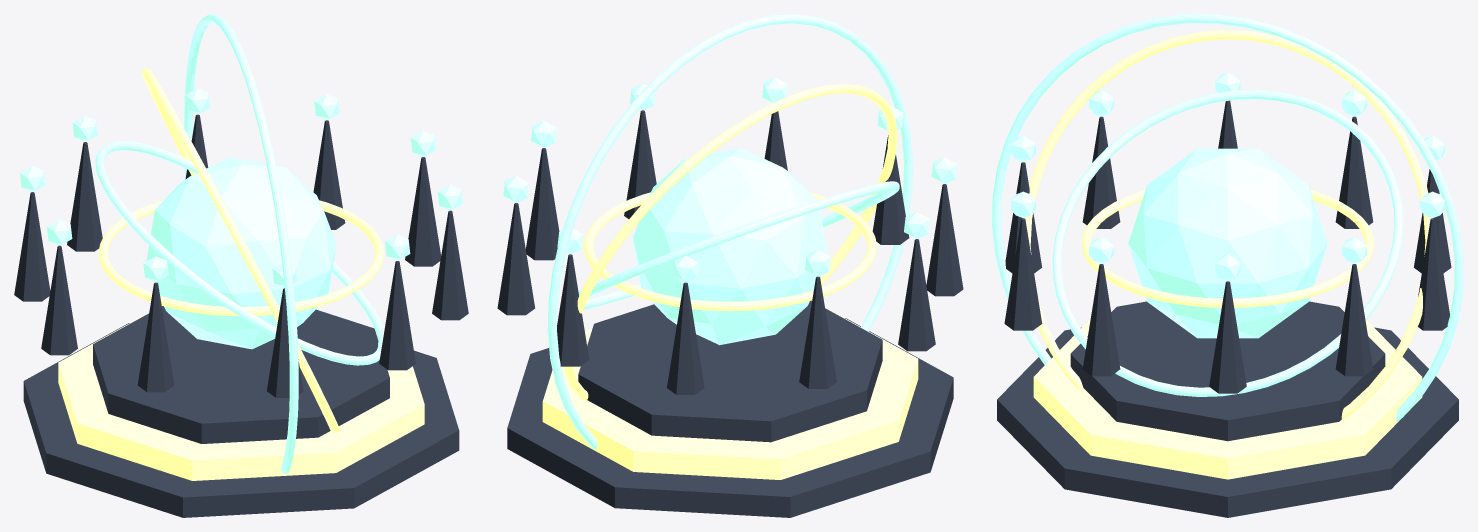
File: gpu-blender-v5.glb
3 views of the same model, side by side, from view 1: azimuth 30°, elevation 25°; view 2: azimuth 150°, elevation 25°; view 3: azimuth 270°, elevation 25° (orthographic). The views are drawn at different scales.
Parts seen in each view (by area): view 1: Cylinder.002, SovereignCore_producthunt-connector, Cylinder, Cylinder.001, Torus.003, Torus.001, Torus, Torus.002, Cone.006, Cone.009, Cone.005, Cone.008 (+12 smaller); view 2: Cylinder.002, SovereignCore_producthunt-connector, Cylinder, Cylinder.001, Torus.003, Torus.002, Torus, Torus.001, Cone.005, Cone.001, Cone.006, Cone.003 (+12 smaller); view 3: SovereignCore_producthunt-connector, Cylinder.002, Cylinder, Cylinder.001, Torus.003, Torus.001, Torus.002, Torus, Cone.001, Cone.009, Cone, Cone.008 (+7 smaller).
Part boxes in pixels (bbox=[...]): Cylinder.002: bbox=[93, 306, 389, 443]; SovereignCore_producthunt-connector: bbox=[146, 157, 336, 349]; Cylinder: bbox=[23, 323, 459, 517]; Cylinder.001: bbox=[58, 314, 424, 480]; Torus.003: bbox=[184, 14, 298, 473]; Torus.001: bbox=[95, 141, 384, 365]; Torus: bbox=[98, 200, 384, 316]; Torus.002: bbox=[142, 68, 339, 432]; Cone.006: bbox=[137, 282, 174, 392]; Cone.009: bbox=[432, 210, 468, 320]; Cone.005: bbox=[41, 245, 77, 355]; Cone.008: bbox=[379, 261, 415, 370]; Cylinder.002: bbox=[578, 300, 882, 442]; SovereignCore_producthunt-connector: bbox=[633, 148, 827, 345]; Cylinder: bbox=[507, 318, 953, 517]; Cylinder.001: bbox=[542, 308, 918, 479]; Torus.003: bbox=[547, 14, 913, 449]; Torus.002: bbox=[564, 83, 897, 400]; Torus: bbox=[584, 192, 876, 311]; Torus.001: bbox=[578, 181, 899, 309]; Cone.005: bbox=[898, 239, 935, 351]; Cone.001: bbox=[497, 203, 535, 315]; Cone.006: bbox=[926, 184, 963, 296]; Cone.003: bbox=[667, 282, 704, 394]; SovereignCore_producthunt-connector: bbox=[1128, 148, 1327, 338]; Cylinder.002: bbox=[1070, 301, 1385, 441]; Cylinder: bbox=[997, 327, 1458, 517]; Cylinder.001: bbox=[1033, 319, 1422, 479]; Torus.003: bbox=[992, 14, 1463, 421]; Torus.001: bbox=[1052, 89, 1403, 396]; Torus.002: bbox=[1024, 30, 1431, 420]; Torus: bbox=[1081, 190, 1374, 307]; Cone.001: bbox=[1335, 264, 1373, 376]; Cone.009: bbox=[1082, 264, 1120, 376]; Cone: bbox=[1209, 281, 1246, 393]; Cone.008: bbox=[1004, 218, 1042, 330].
Size of the model in its own units: 4.41 by 4.7 by 4.49.
